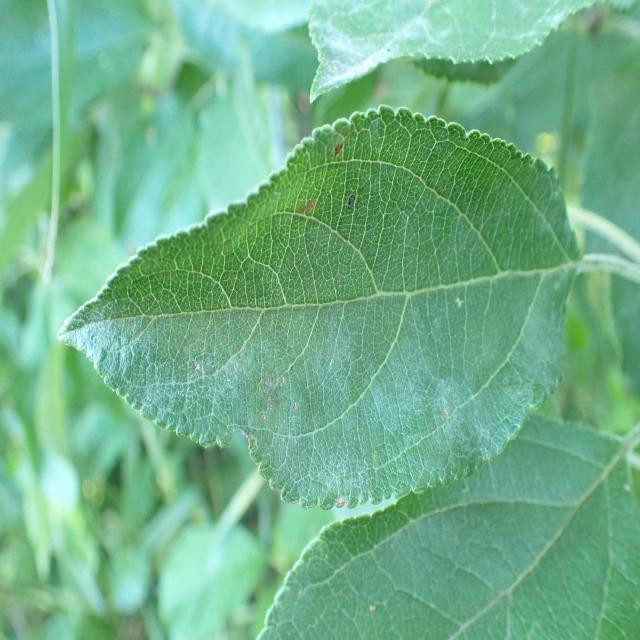Powdery_mildew: (100, 110, 575, 502)
